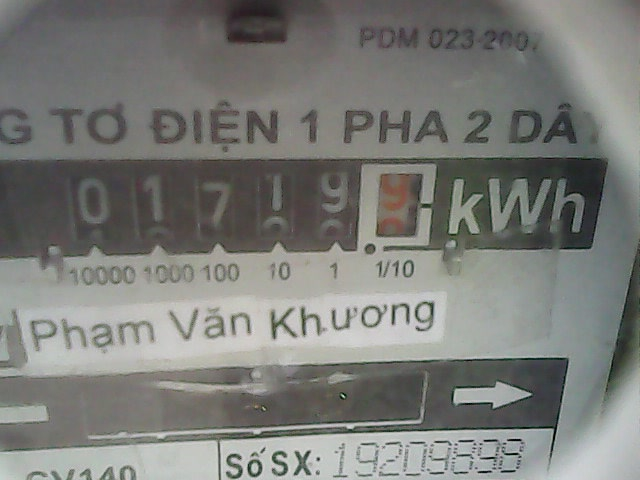phy_plate: (52, 153, 436, 256)
